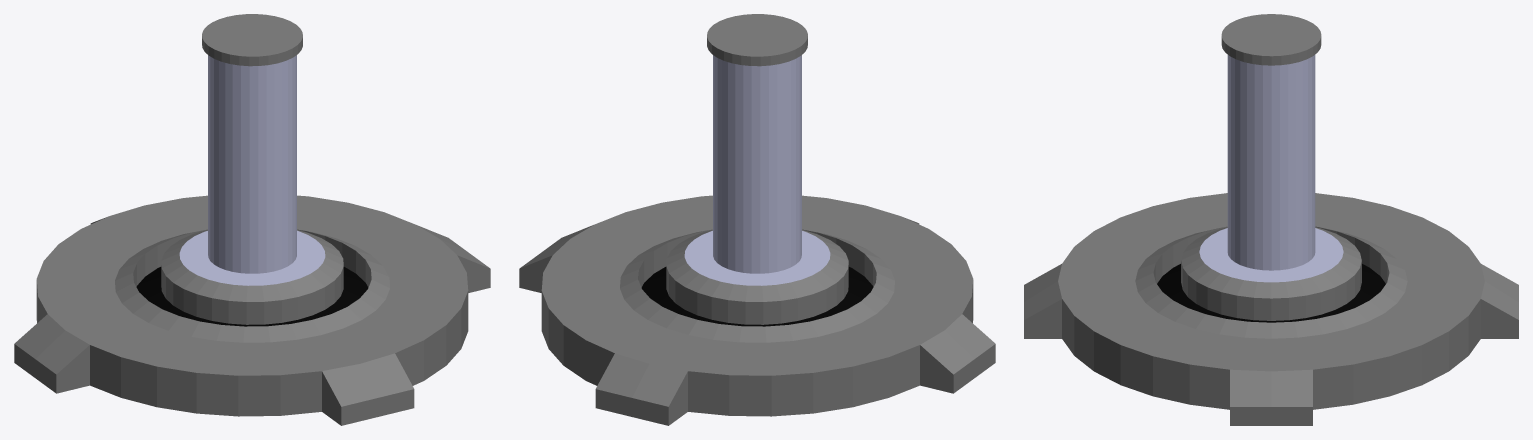
The model's file is turret_bottom2.fbx.
3 renders of one model, left to right at view 1: azimuth 30°, elevation 25°; view 2: azimuth 150°, elevation 25°; view 3: azimuth 270°, elevation 25°, orthographic.
Visible parts, largest first — view 1: Base; view 2: Base; view 3: Base.
Part boxes in pixels (box(x1,y1,x2,y2)): Base: box(14, 14, 490, 425); Base: box(519, 14, 995, 425); Base: box(1024, 14, 1518, 425).
Size of the model in its own units: 194 by 124 by 194.
